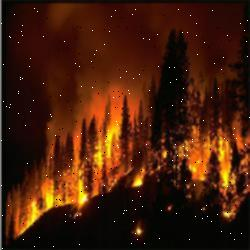fire: (6, 97, 250, 233)
